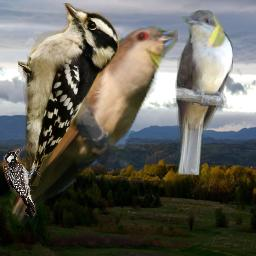Cuckoo: (3, 26, 178, 231), (173, 10, 233, 175)
Woodpecker: (18, 3, 119, 186), (0, 146, 46, 218)
